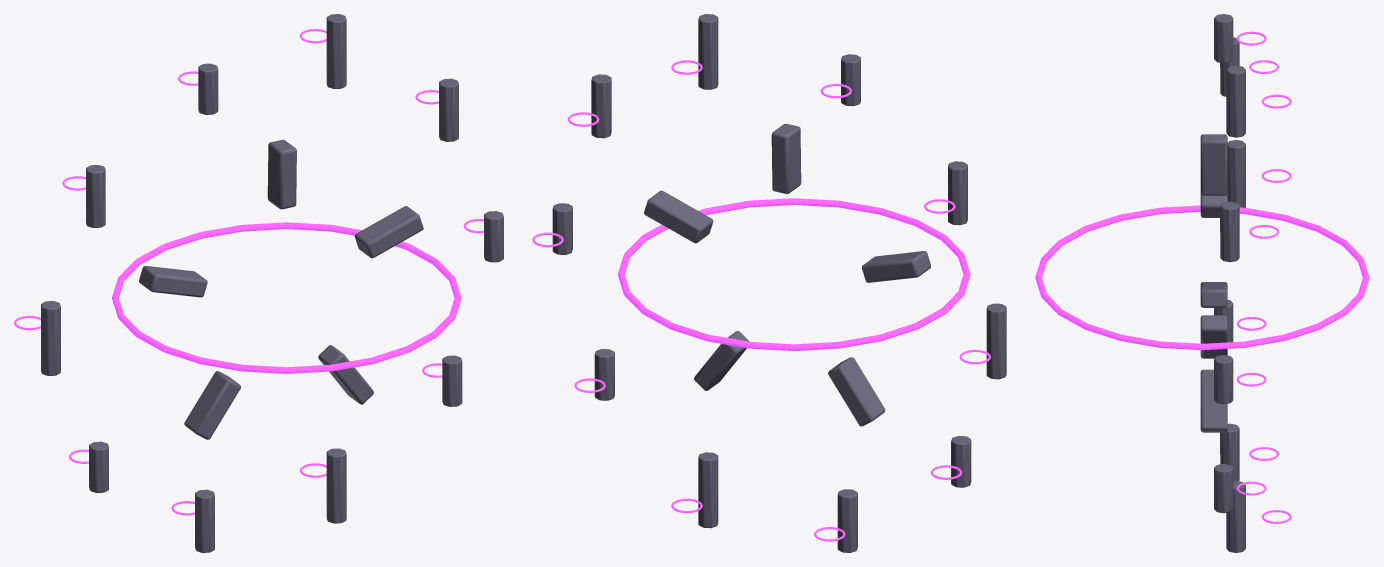
The model's file is env_boss_arena_choir_85_top3d_v001.glb.
The picture shows the model from 3 angles, left to right: view 1: azimuth 30°, elevation 25°; view 2: azimuth 150°, elevation 25°; view 3: azimuth 270°, elevation 25°; orthographic projection. The views are drawn at different scales.
Parts seen in each view (by area): view 1: Arena_ResonanceCircle, Arena_EchoCover_3, Arena_EchoCover_0, Arena_EchoCover_1, Arena_EchoCover_2, Arena_ChoirMonolith_8, Arena_ChoirMonolith_2, Arena_ChoirMonolith_5, Arena_EchoCover_4, Arena_ChoirMonolith_1, Arena_ChoirMonolith_7, Arena_ChoirMonolith_4 (+4 smaller); view 2: Arena_ResonanceCircle, Arena_EchoCover_3, Arena_EchoCover_0, Arena_EchoCover_1, Arena_EchoCover_2, Arena_ChoirMonolith_2, Arena_ChoirMonolith_8, Arena_ChoirMonolith_5, Arena_EchoCover_4, Arena_ChoirMonolith_1, Arena_ChoirMonolith_7, Arena_ChoirMonolith_4 (+4 smaller); view 3: Arena_ResonanceCircle, Arena_EchoCover_1, Arena_ChoirMonolith_2, Arena_EchoCover_4, Arena_ChoirMonolith_5, Arena_ChoirMonolith_1, Arena_ChoirMonolith_8, Arena_EchoCover_3, Arena_ChoirMonolith_0, Arena_ChoirMonolith_3, Arena_ChoirMonolith_9, Arena_ChoirMonolith_7 (+3 smaller).
Boxes of the visible parts, x1,y1,x2,y2 form: Arena_ResonanceCircle: (112,222,461,373); Arena_EchoCover_3: (184,371,240,439); Arena_EchoCover_0: (354,206,423,258); Arena_EchoCover_1: (267,139,296,209); Arena_EchoCover_2: (139,266,207,297); Arena_ChoirMonolith_8: (326,448,346,523); Arena_ChoirMonolith_2: (326,14,346,88); Arena_ChoirMonolith_5: (41,301,60,375); Arena_EchoCover_4: (318,345,373,404); Arena_ChoirMonolith_1: (439,78,458,141); Arena_ChoirMonolith_7: (195,489,214,552); Arena_ChoirMonolith_4: (86,165,105,227); Arena_ResonanceCircle: (617,198,970,350); Arena_EchoCover_3: (828,357,885,426); Arena_EchoCover_0: (644,190,713,243); Arena_EchoCover_1: (771,123,801,193); Arena_EchoCover_2: (862,251,930,282); Arena_ChoirMonolith_2: (698,14,718,89); Arena_ChoirMonolith_8: (698,452,718,528); Arena_ChoirMonolith_5: (986,303,1006,379); Arena_EchoCover_4: (694,331,749,390); Arena_ChoirMonolith_1: (591,74,611,138); Arena_ChoirMonolith_7: (837,489,857,552); Arena_ChoirMonolith_4: (948,161,967,225); Arena_ResonanceCircle: (1035,205,1369,350); Arena_EchoCover_1: (1200,134,1227,195); Arena_ChoirMonolith_2: (1226,65,1245,137); Arena_EchoCover_4: (1200,369,1227,432); Arena_ChoirMonolith_5: (1227,140,1245,207); Arena_ChoirMonolith_1: (1220,201,1239,261); Arena_ChoirMonolith_8: (1226,481,1245,552); Arena_EchoCover_3: (1200,315,1227,358); Arena_ChoirMonolith_0: (1214,355,1233,404); Arena_ChoirMonolith_3: (1214,14,1233,63); Arena_ChoirMonolith_9: (1214,464,1233,513); Arena_ChoirMonolith_7: (1220,423,1239,481).
Bounding box in the file's own units: 26.55 × 27.48 × 17.35.
